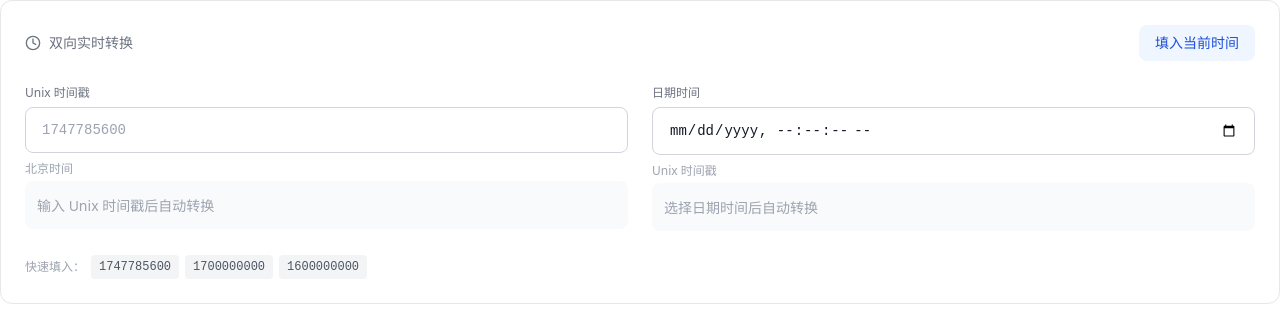
Test: UnixTimestampConverter › shows error for invalid unix input
Type "abc" into the field with placeholder "1747785600". click: (326,130)
box: [25, 107, 628, 153]
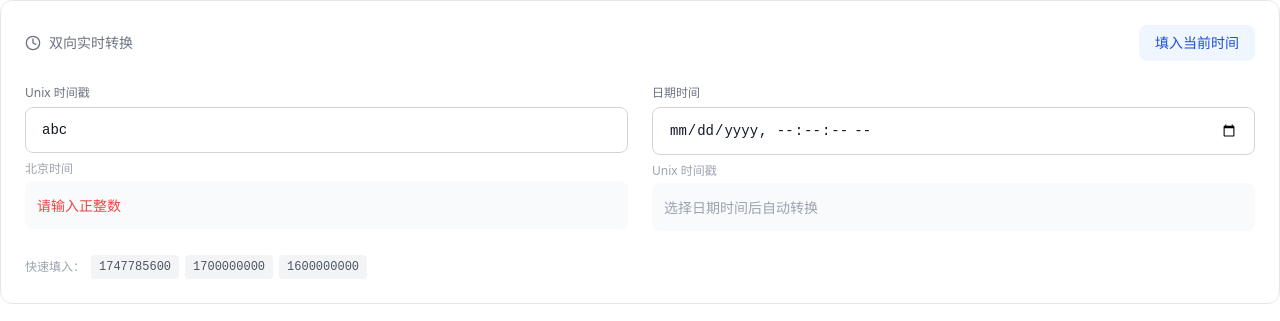
Expected: the text "请输入正整数" is shown, [37, 196, 121, 215]
